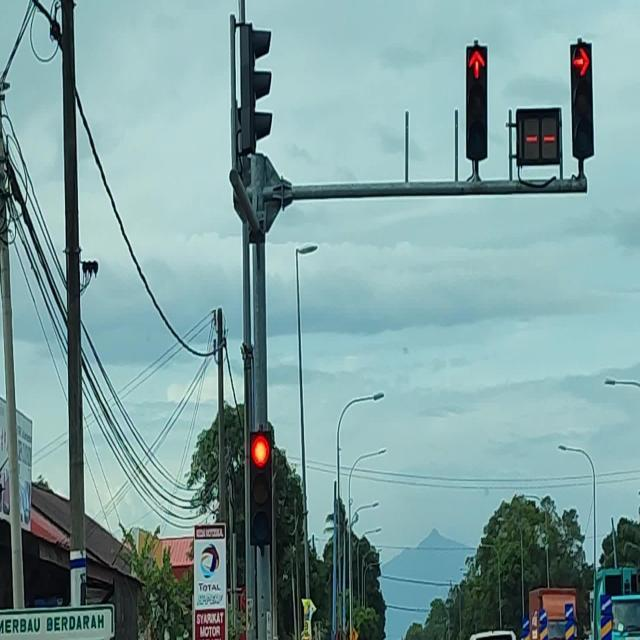red_light: (570, 40, 594, 158), (464, 44, 488, 160), (250, 430, 272, 546)
